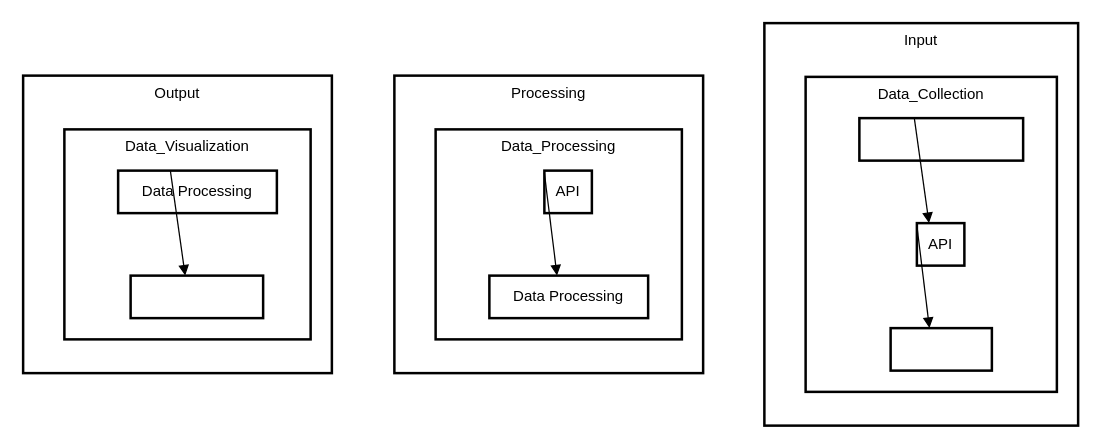
The diagram is 1100 pixels wide and 448 high, and some of its shapes have lost their labels. Each missing label, with the centre of its shape:
"Database" goes at pixel 940 348.
"Visualization" goes at pixel 196 296.
"Web Application" goes at pixel 941 138.
